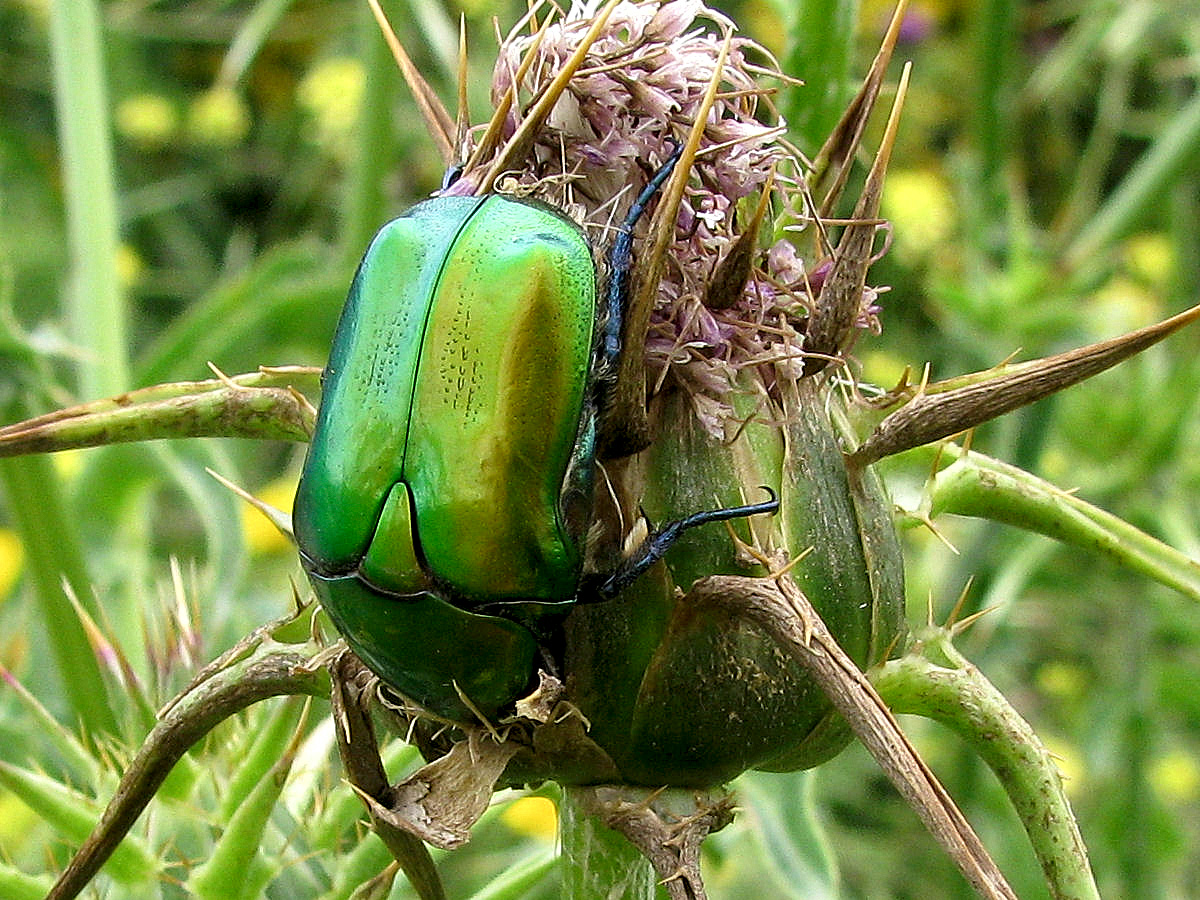Protaetia_cuprea_ignicollis: (276, 156, 612, 749)
